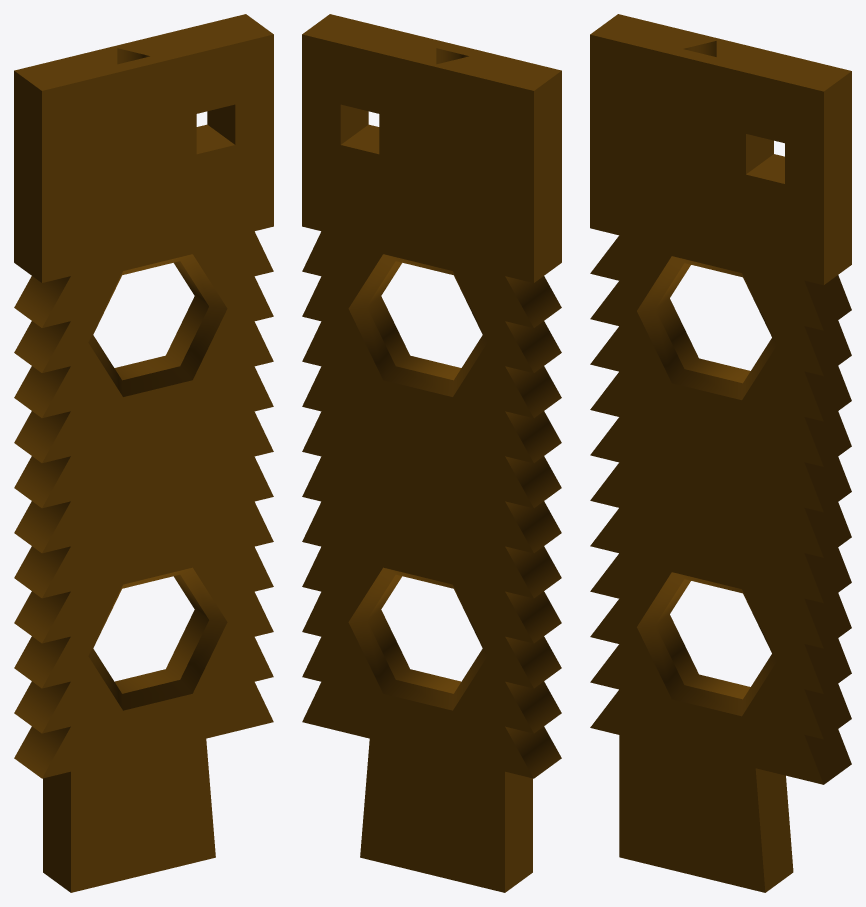
File: Cremaillere Heures - plaque.obj
3 views of the same model, side by side, from view 1: azimuth 30°, elevation 25°; view 2: azimuth 150°, elevation 25°; view 3: azimuth 330°, elevation 25° (orthographic).
Visible parts, largest first — view 1: Face_3, Face_6, Face_5, Face_61, Face_63, Face_13, Face_8, Face_7, Face_20, Face_18, Face_28, Face_36 (+9 smaller); view 2: Face_2, Face_6, Face_5, Face_62, Face_64, Face_13, Face_8, Face_7, Face_20, Face_18, Face_28, Face_36 (+9 smaller); view 3: Face_3, Face_6, Face_1, Face_63, Face_61, Face_60, Face_7, Face_8, Face_44, Face_38, Face_40, Face_50 (+9 smaller).
Part boxes in pixels (bbox=[...]): Face_3: bbox=[42, 34, 273, 892]; Face_6: bbox=[14, 14, 273, 90]; Face_5: bbox=[14, 71, 41, 282]; Face_61: bbox=[88, 567, 227, 710]; Face_63: bbox=[88, 254, 227, 396]; Face_13: bbox=[43, 771, 70, 892]; Face_8: bbox=[115, 574, 208, 693]; Face_7: bbox=[114, 261, 208, 380]; Face_20: bbox=[14, 636, 70, 688]; Face_18: bbox=[14, 681, 70, 733]; Face_28: bbox=[14, 456, 70, 507]; Face_36: bbox=[14, 276, 70, 327]; Face_2: bbox=[302, 34, 533, 892]; Face_6: bbox=[302, 14, 561, 90]; Face_5: bbox=[534, 71, 561, 282]; Face_62: bbox=[348, 567, 487, 710]; Face_64: bbox=[348, 254, 487, 396]; Face_13: bbox=[505, 771, 532, 892]; Face_8: bbox=[367, 574, 460, 693]; Face_7: bbox=[367, 261, 461, 380]; Face_20: bbox=[505, 636, 561, 688]; Face_18: bbox=[505, 681, 561, 733]; Face_28: bbox=[505, 456, 561, 507]; Face_36: bbox=[505, 276, 561, 327]; Face_3: bbox=[590, 34, 823, 892]; Face_6: bbox=[590, 14, 851, 91]; Face_1: bbox=[824, 71, 851, 284]; Face_63: bbox=[637, 256, 776, 400]; Face_61: bbox=[637, 572, 776, 716]; Face_60: bbox=[755, 768, 793, 892]; Face_7: bbox=[655, 263, 750, 383]; Face_8: bbox=[655, 579, 750, 699]; Face_44: bbox=[804, 411, 851, 466]; Face_38: bbox=[804, 275, 851, 330]; Face_40: bbox=[804, 320, 851, 375]; Face_50: bbox=[804, 547, 851, 602].
Bounding box in the file's own units: 0.012 × 0.04 × 0.0025.
